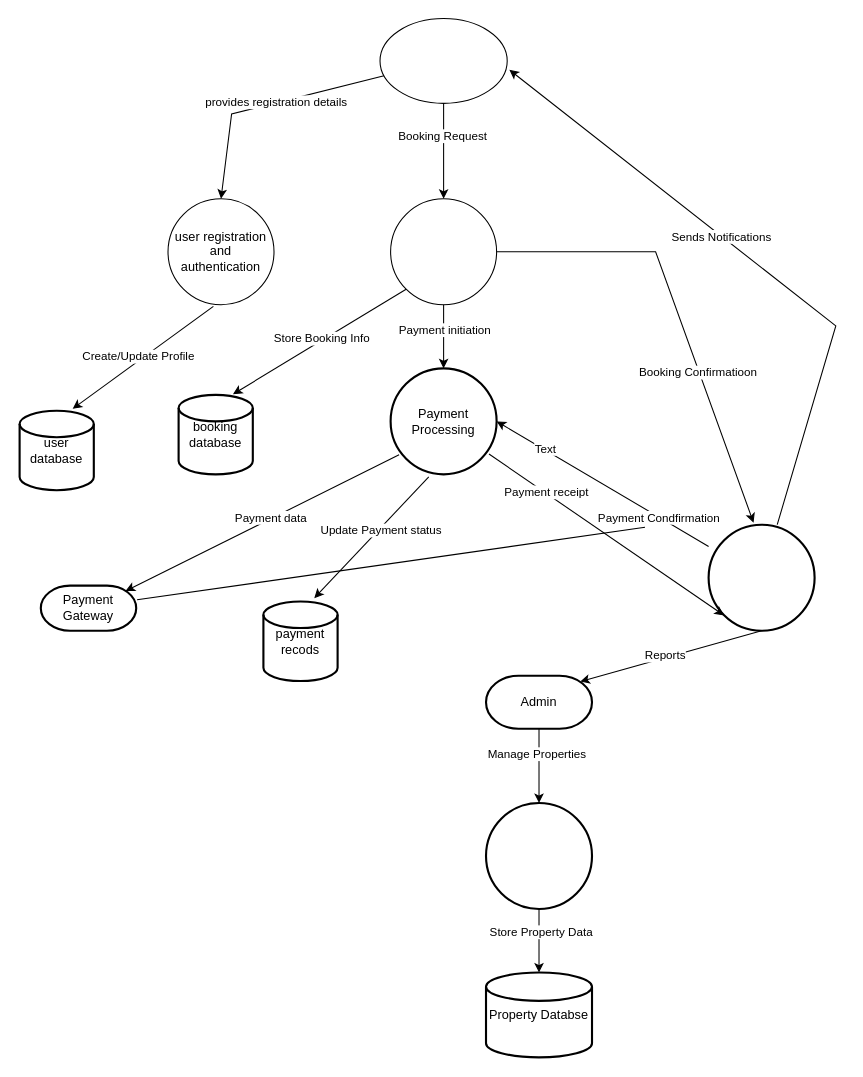
The diagram is 863 pixels wide and 1077 high, and some of its shapes have lost their labels. The shapes that lost their labels are listed below. From the top down, each one's centre as x and y in pixels, then its label:
the point at 443,60: user
the point at 443,251: booking management
the point at 761,577: Notifications and Reports
the point at 538,855: Property Management
